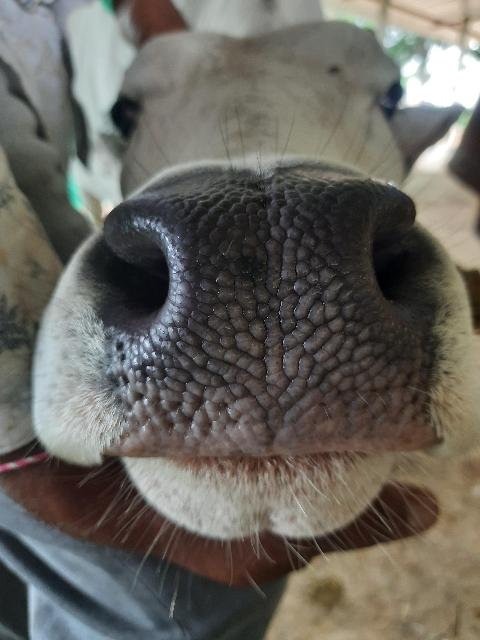Muzzle: (140, 195, 390, 447)
